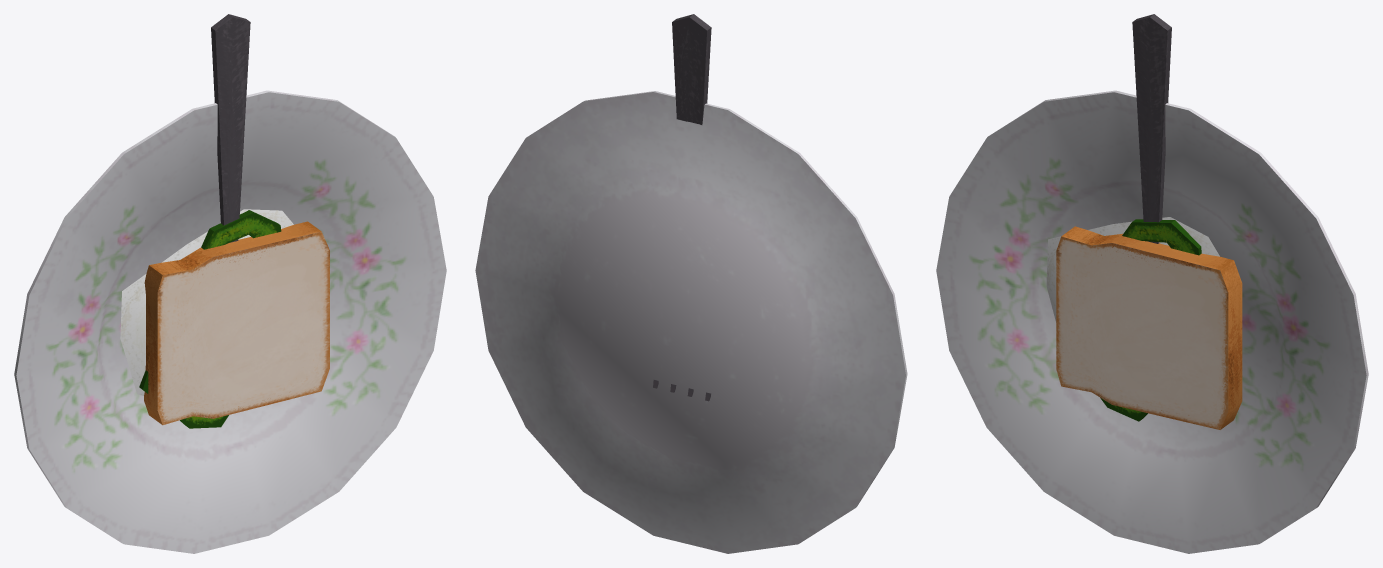
File: fancy-toast---lowpoly-1512c3.glb
3 renders of one model, left to right at view 1: azimuth 30°, elevation 25°; view 2: azimuth 150°, elevation 25°; view 3: azimuth 330°, elevation 25°, orthographic.
Parts seen in each view (by area): view 1: PropMesh; view 2: PropMesh; view 3: PropMesh.
Boxes of the visible parts, x1,y1,x2,y2 form: PropMesh: [14, 14, 446, 553]; PropMesh: [475, 14, 907, 553]; PropMesh: [936, 14, 1368, 553].
Bounding box in the file's own units: 1.88 × 2.2 × 0.1657.
Materials: 6 (6 with a texture image).
